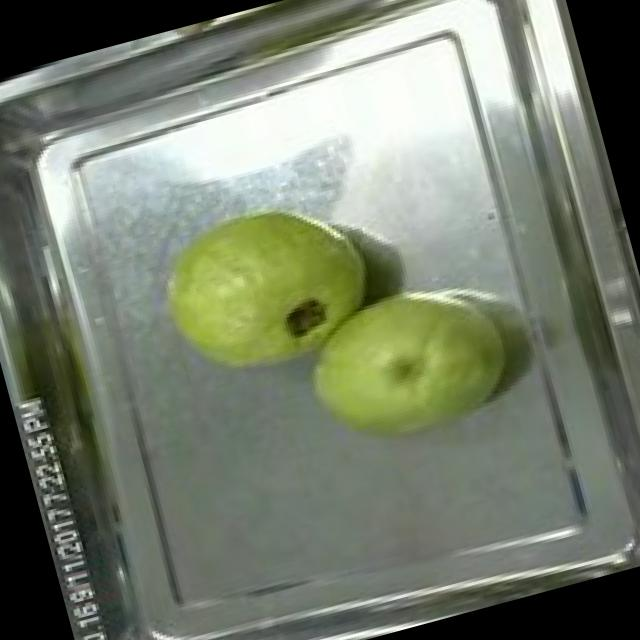Fruit: (134, 172, 396, 404), (284, 255, 531, 470)
